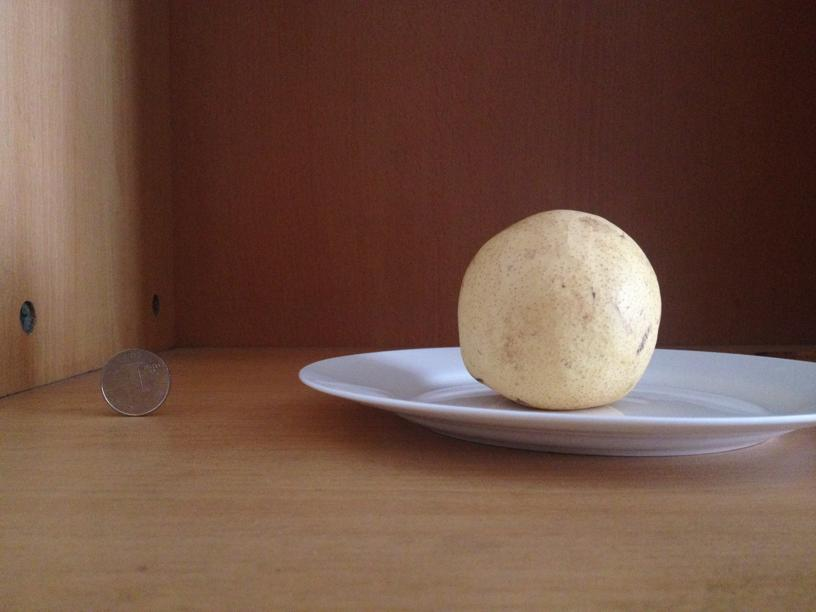coin: (98, 345, 173, 418)
pear: (460, 206, 659, 407)
